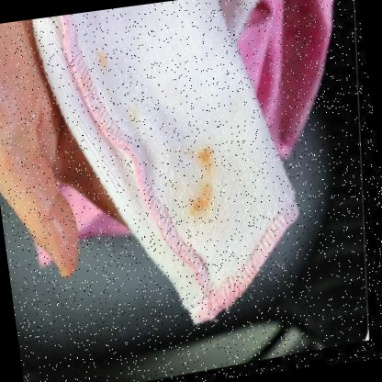kimchi: (182, 185, 223, 222), (192, 139, 224, 175), (87, 47, 103, 70)
